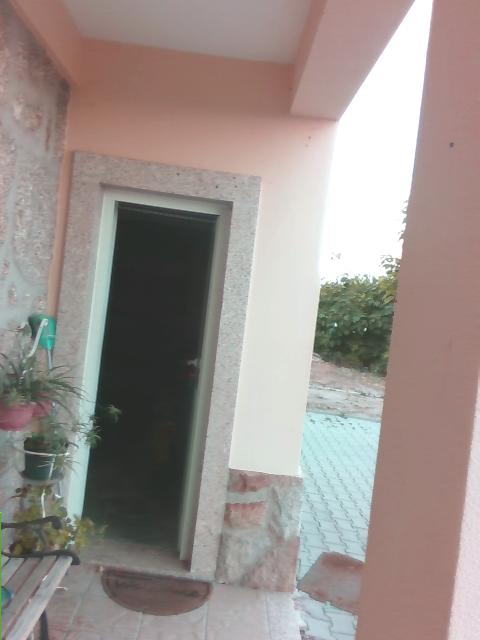open_door: (76, 194, 221, 561)
